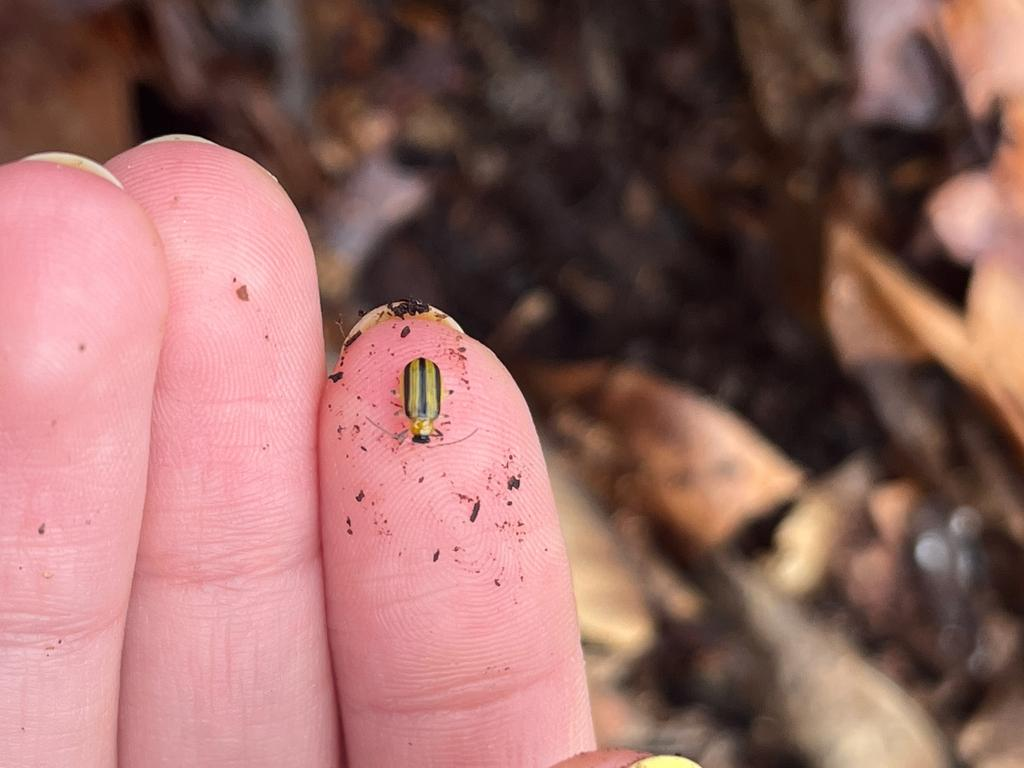potato_beetle: (362, 336, 482, 489)
